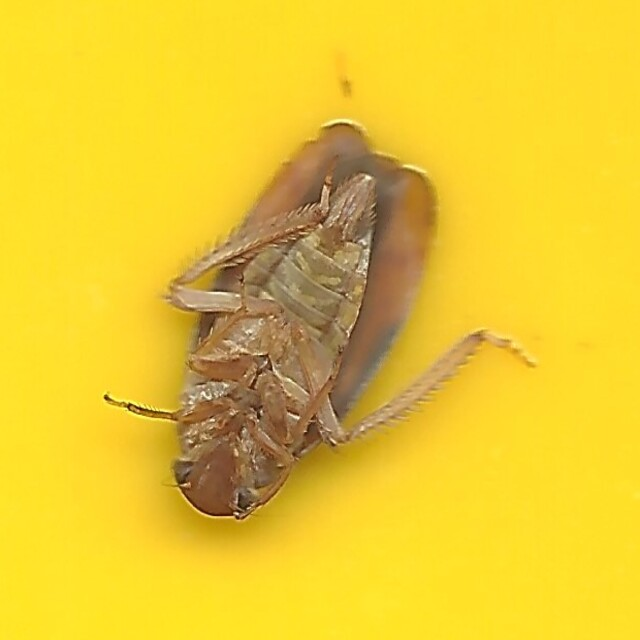Hemiptera: (103, 117, 537, 523)
